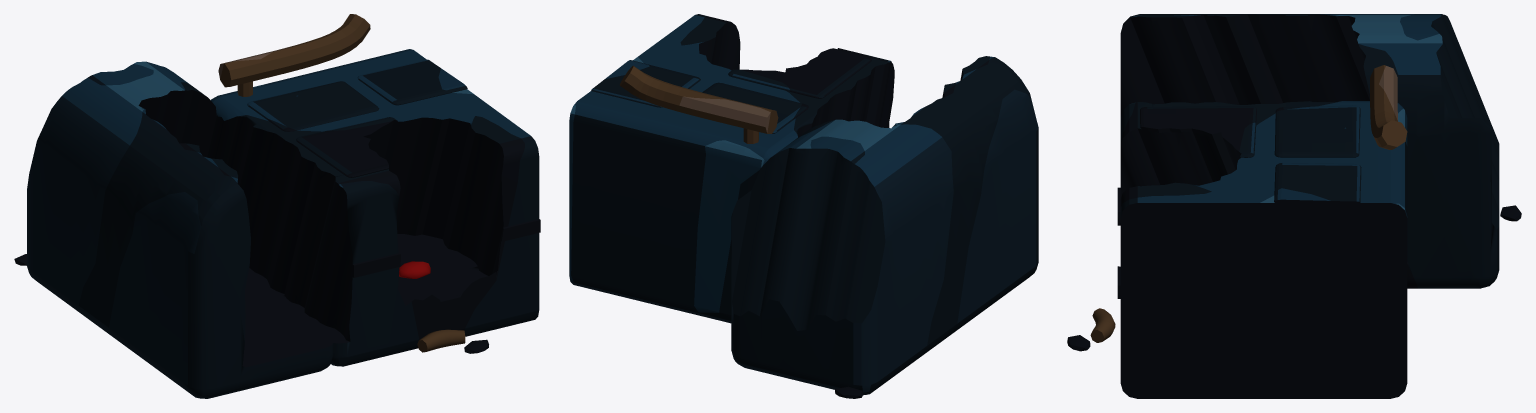
The model's file is miners_tank_l_wreck.glb.
3 renders of one model, left to right at view 1: azimuth 30°, elevation 25°; view 2: azimuth 150°, elevation 25°; view 3: azimuth 270°, elevation 25°, orthographic. The views are drawn at different scales.
Visible parts, largest first — view 1: miners_tank_l_wreck; view 2: miners_tank_l_wreck; view 3: miners_tank_l_wreck.
Boxes of the visible parts, x1,y1,x2,y2 form: miners_tank_l_wreck: (14,14,540,398); miners_tank_l_wreck: (569,14,1038,398); miners_tank_l_wreck: (1067,14,1521,398).
Size of the model in its own units: 20 by 12.94 by 21.43.
